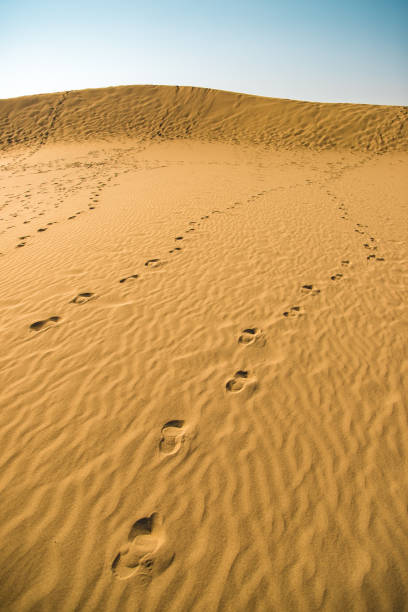human_footprint: (111, 513, 173, 579), (159, 419, 186, 455), (225, 369, 256, 392), (238, 327, 265, 346), (30, 315, 60, 331), (71, 292, 96, 303), (282, 305, 303, 317), (301, 284, 320, 295), (119, 274, 139, 283), (144, 258, 162, 268), (330, 273, 342, 280), (169, 247, 181, 253)
